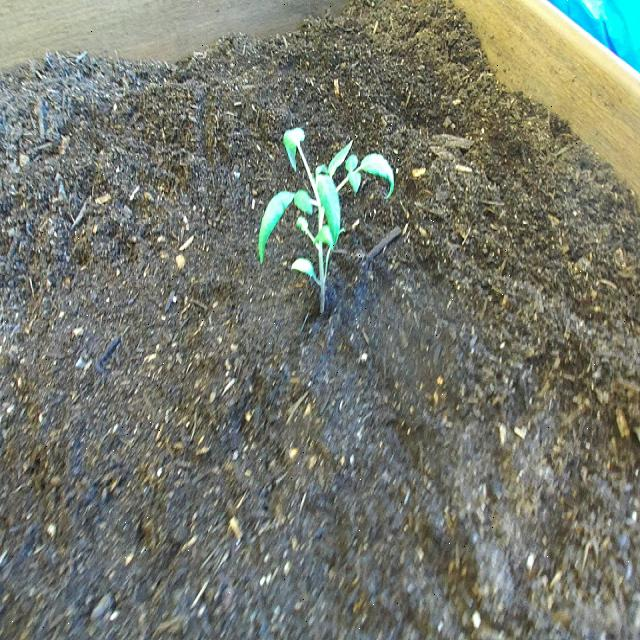Healthy: (254, 121, 396, 322)
